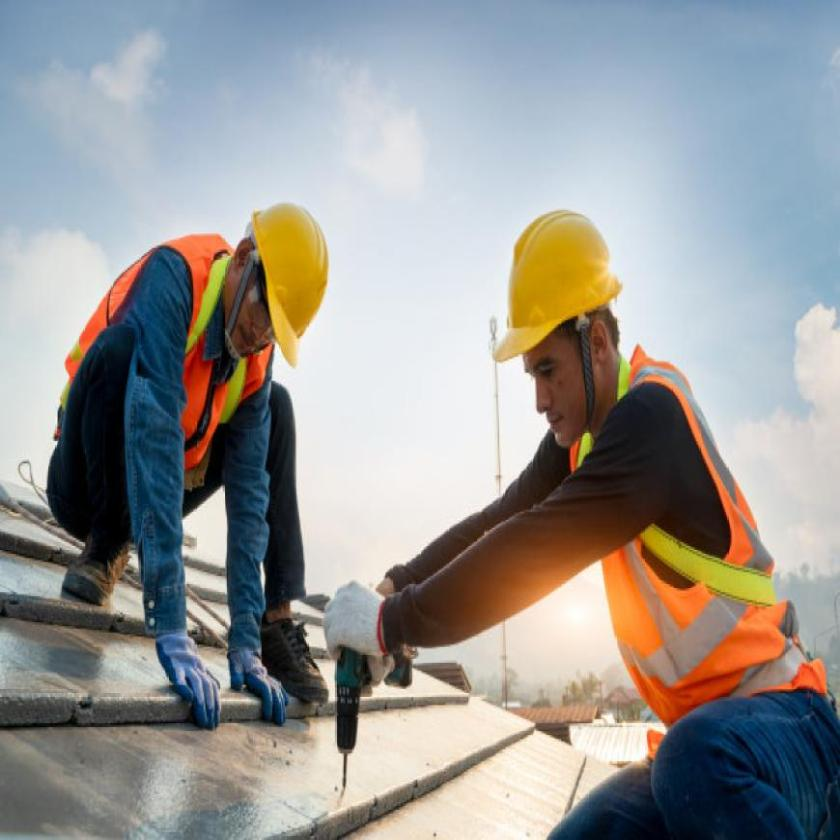Con_casco: (491, 203, 632, 453), (229, 194, 335, 395)
